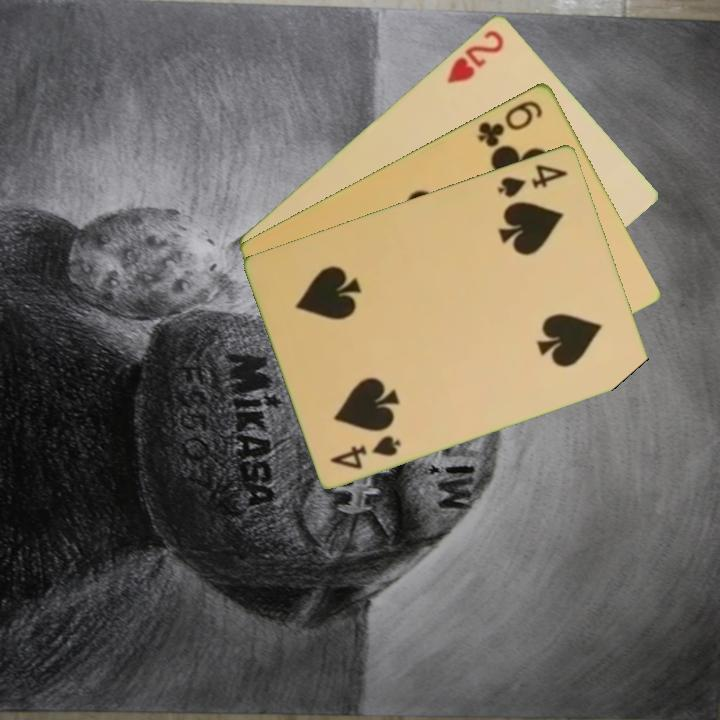2h: (443, 25, 507, 86)
4s: (326, 431, 405, 472), (494, 160, 571, 200)
6c: (474, 96, 546, 150)
